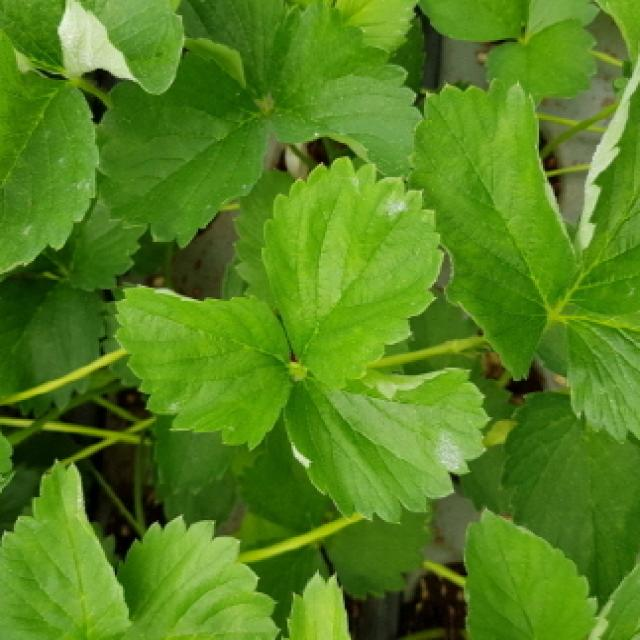Powdery Mildew Leaf: (403, 73, 581, 381), (257, 156, 446, 391), (282, 369, 492, 526), (109, 283, 297, 454), (0, 26, 102, 276), (561, 33, 640, 324), (55, 0, 186, 97)
